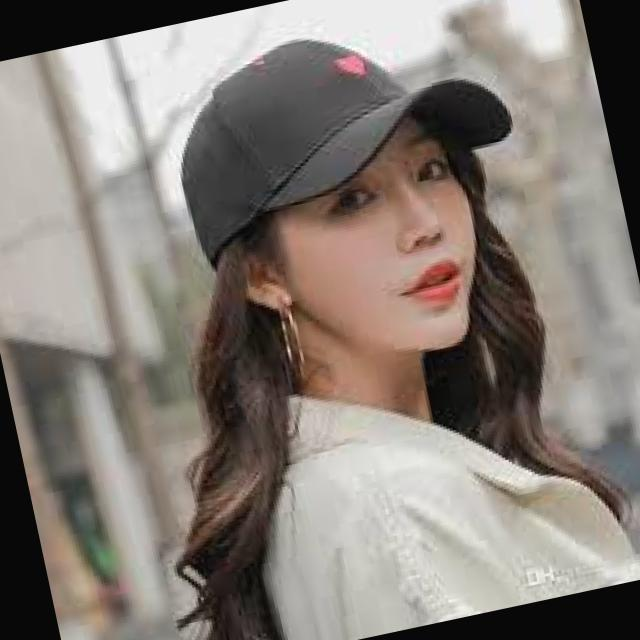cap: (128, 0, 548, 260)
